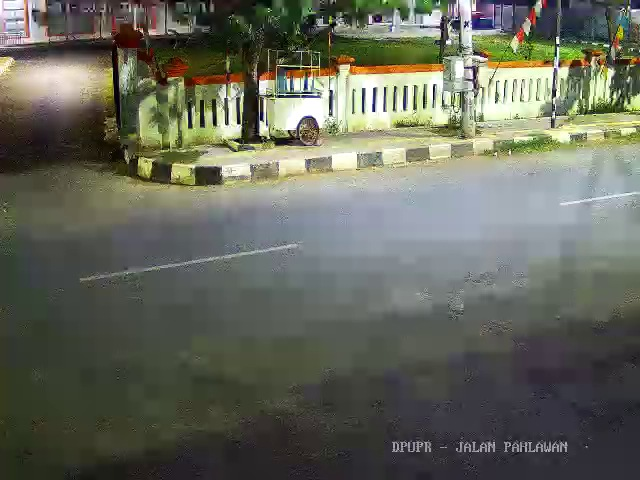Gerobak: (255, 48, 327, 146)
